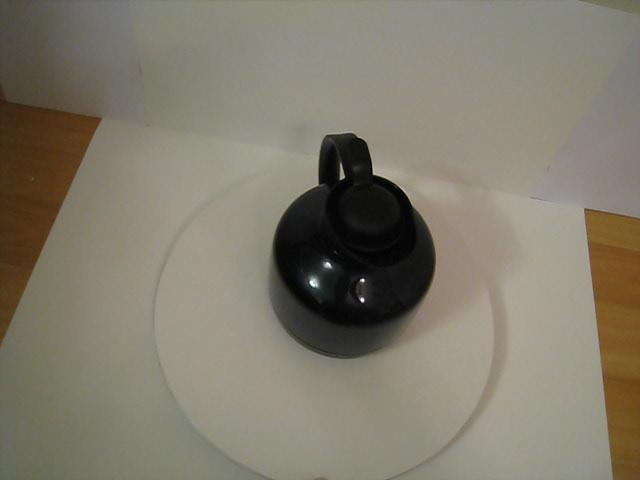pitcher: (265, 120, 438, 381)
